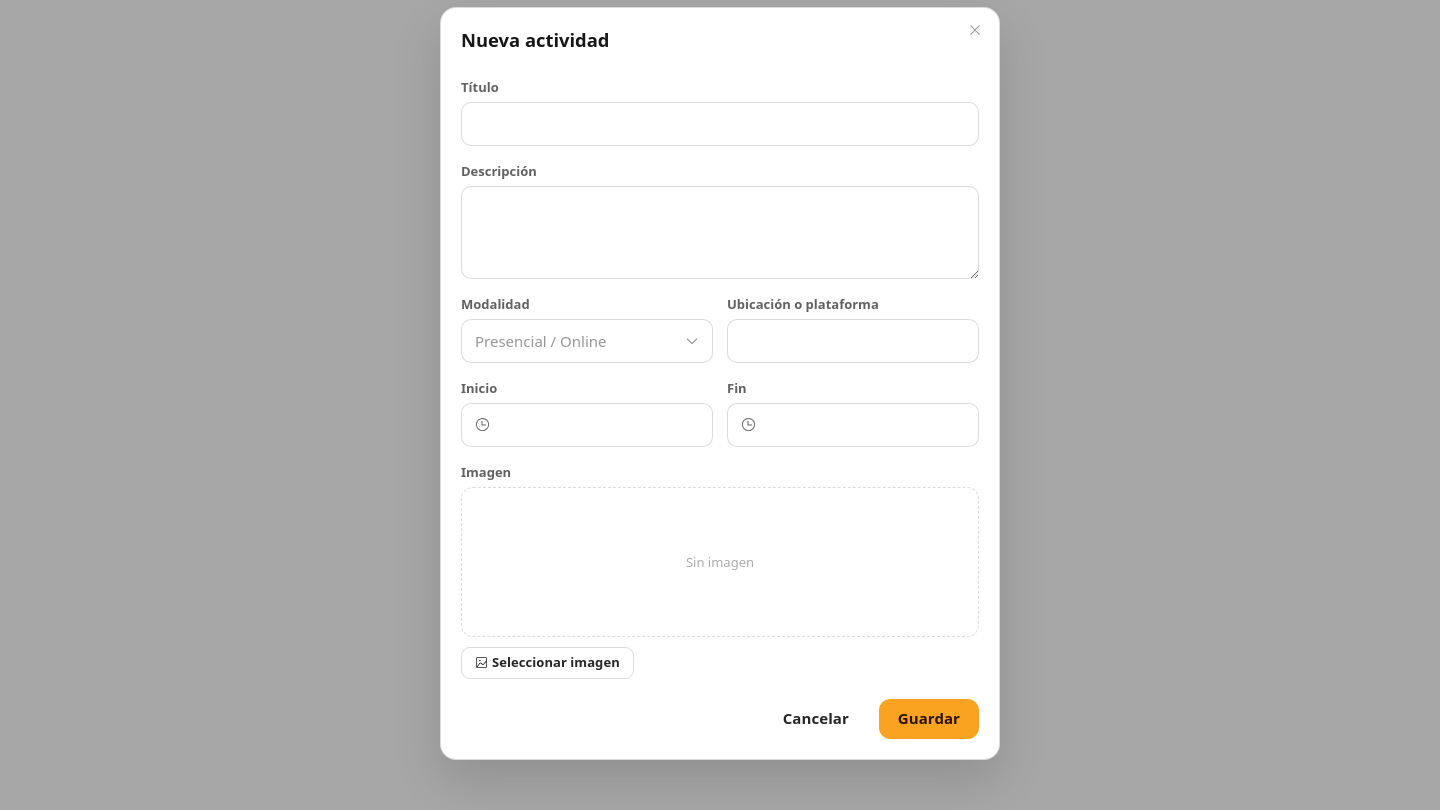
it: ActivityFormDialog › shows the required-field errors and sends no role capacities without roles
(page scrolled)
Click the button "Guardar": {"x": 929, "y": 718} [879,698,979,738]
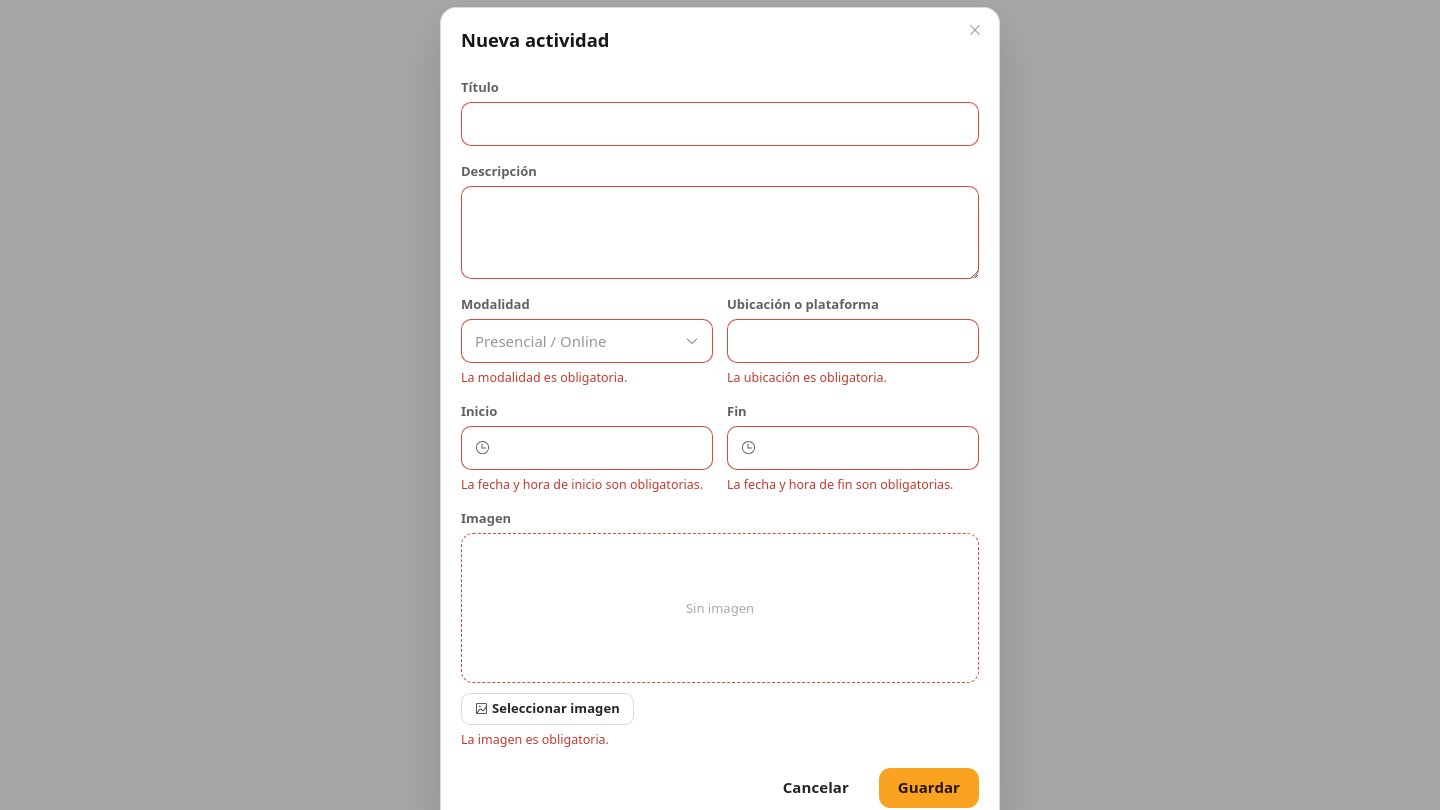
Result: the text "La modalidad es obligatoria." is shown at [461,368,627,386]
Result: the text "La ubicación es obligatoria." is shown at [727,368,887,386]
Result: the text "La fecha y hora de inicio son obligatorias." is shown at [461,476,713,492]
